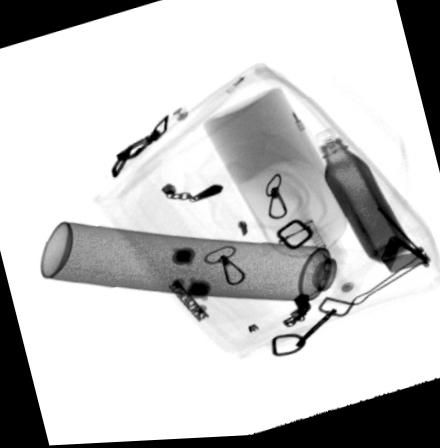Sprayer: (37, 220, 371, 305)
